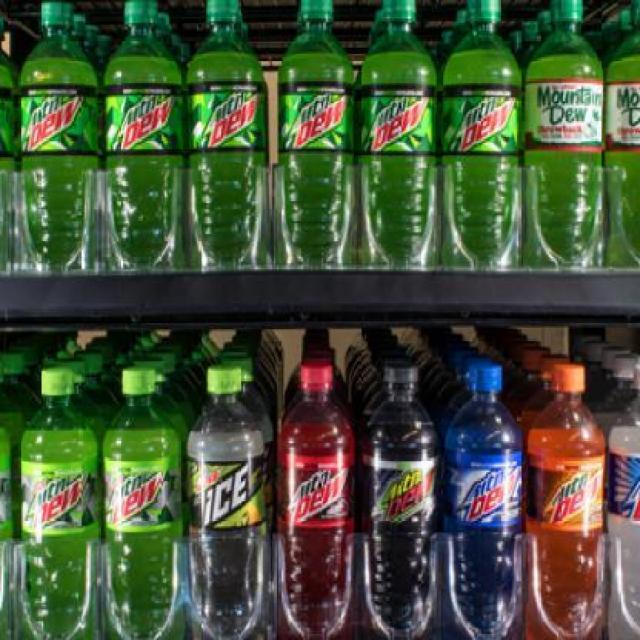Drinks: (18, 366, 101, 640), (355, 1, 438, 270), (278, 361, 358, 639), (360, 360, 440, 638), (445, 361, 525, 639), (525, 360, 605, 638), (440, 0, 522, 269), (101, 366, 181, 640), (19, 2, 99, 274), (102, 0, 182, 272), (185, 1, 263, 273), (278, 0, 356, 269)
